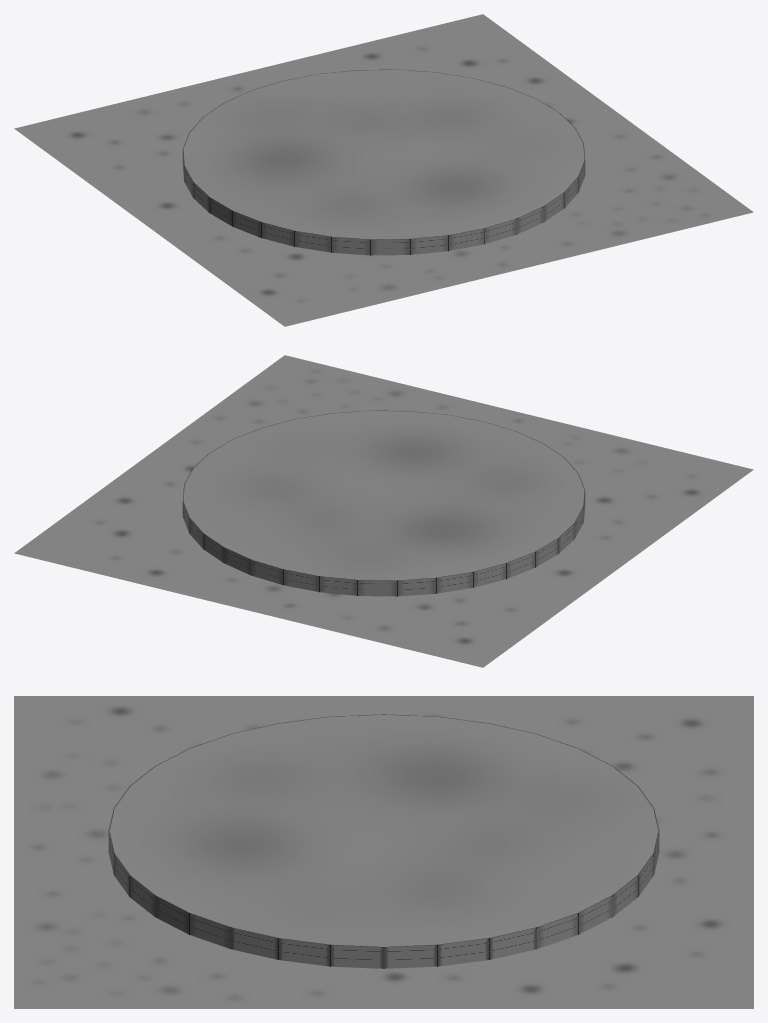
Rendered from BattleField.obj.
3 renders of one model, top to bottom at view 1: azimuth 30°, elevation 25°; view 2: azimuth 150°, elevation 25°; view 3: azimuth 270°, elevation 25°, orthographic. The views are drawn at different scales.
Visible parts, largest first — view 1: ground, field; view 2: ground, field; view 3: ground, field.
Boxes of the visible parts, x1,y1,x2,y2 form: ground: (14, 14, 753, 326); field: (182, 69, 585, 255); ground: (14, 355, 753, 667); field: (182, 410, 585, 596); ground: (14, 696, 753, 1008); field: (108, 714, 659, 968).
Size of the model in its own units: 142 by 4.88 by 142.
